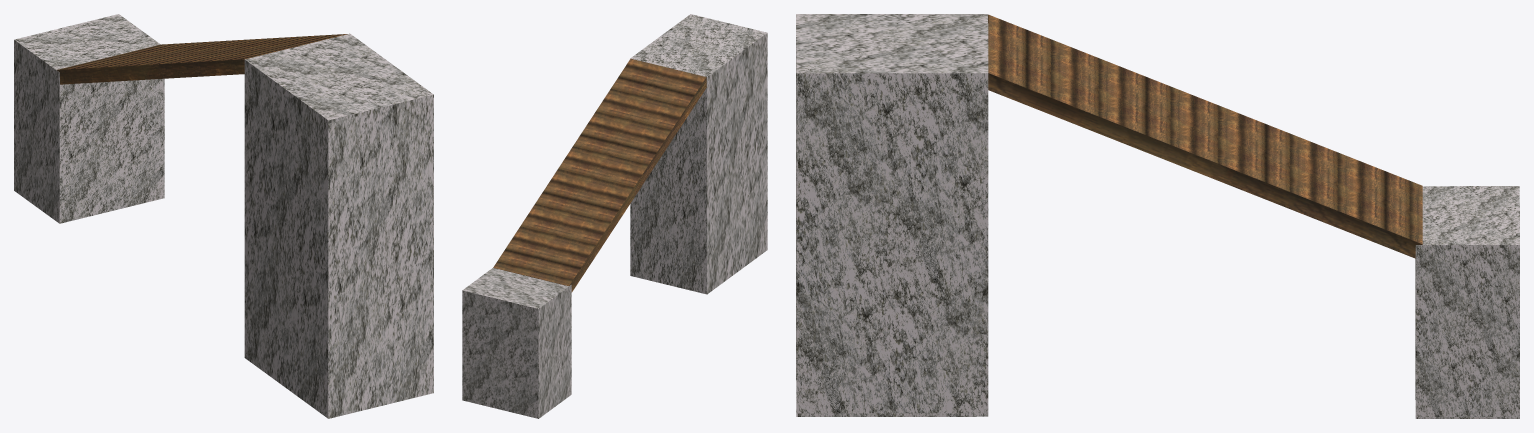
Rendered from pro_stone_bridge1.obj.
3 renders of one model, left to right at view 1: azimuth 30°, elevation 25°; view 2: azimuth 150°, elevation 25°; view 3: azimuth 270°, elevation 25°, orthographic. The views are drawn at different scales.
Visible parts, largest first — view 1: SM_MERGED_Plane6_3.001_SM_MERGED_Plane6.000, SM_MERGED_Plane6_3.001_SM_MERGED_Plane6.002, SM_MERGED_Plane6_3.018_SM_MERGED_Plane6.018; view 2: SM_MERGED_Plane6_3.001_SM_MERGED_Plane6.000, SM_MERGED_Plane6_3.018_SM_MERGED_Plane6.018, SM_MERGED_Plane6_3.001_SM_MERGED_Plane6.002; view 3: SM_MERGED_Plane6_3.001_SM_MERGED_Plane6.000, SM_MERGED_Plane6_3.018_SM_MERGED_Plane6.018, SM_MERGED_Plane6_3.001_SM_MERGED_Plane6.002.
Boxes of the visible parts, box(x1,y1,x2,y2) form: SM_MERGED_Plane6_3.001_SM_MERGED_Plane6.000: box(244, 33, 433, 418); SM_MERGED_Plane6_3.001_SM_MERGED_Plane6.002: box(14, 14, 164, 223); SM_MERGED_Plane6_3.018_SM_MERGED_Plane6.018: box(56, 34, 347, 84); SM_MERGED_Plane6_3.001_SM_MERGED_Plane6.000: box(630, 14, 767, 294); SM_MERGED_Plane6_3.018_SM_MERGED_Plane6.018: box(493, 58, 706, 292); SM_MERGED_Plane6_3.001_SM_MERGED_Plane6.002: box(462, 268, 571, 418); SM_MERGED_Plane6_3.001_SM_MERGED_Plane6.000: box(796, 14, 988, 416); SM_MERGED_Plane6_3.018_SM_MERGED_Plane6.018: box(988, 14, 1422, 258); SM_MERGED_Plane6_3.001_SM_MERGED_Plane6.002: box(1415, 186, 1519, 418).
Bounding box in the file's own units: 6.29 × 17.05 × 32.36.
